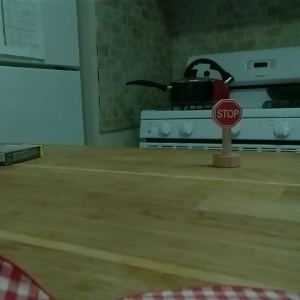stop sign: (208, 97, 244, 172)
